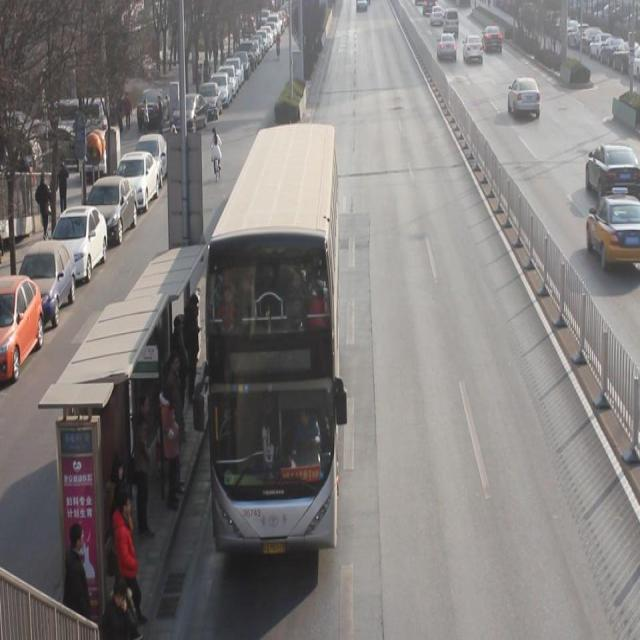car: (586, 188, 640, 275), (585, 145, 640, 205), (508, 77, 541, 123), (461, 36, 484, 68), (436, 34, 457, 66), (481, 26, 503, 55), (429, 7, 444, 30)
truck: (442, 8, 459, 39)
van: (205, 130, 337, 552)
